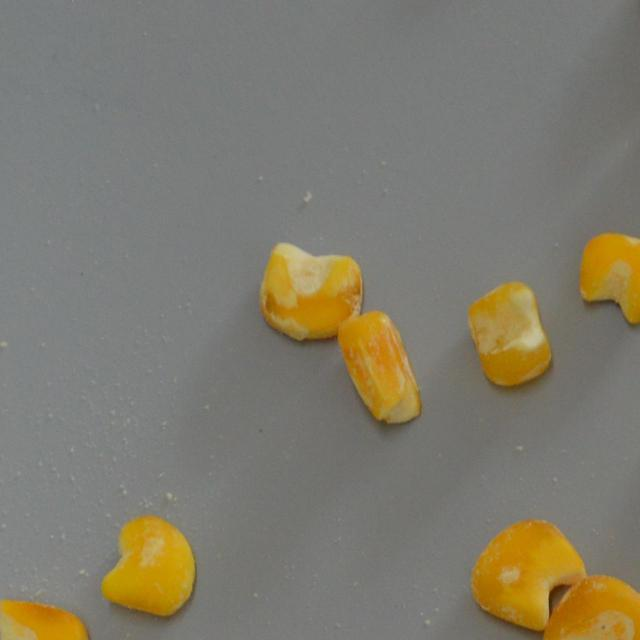no_canjicado: (578, 232, 640, 326)
pelicula: (470, 518, 587, 632), (256, 238, 363, 339), (99, 514, 198, 616), (340, 310, 420, 424), (467, 281, 554, 385), (540, 573, 640, 640), (0, 598, 88, 640)
